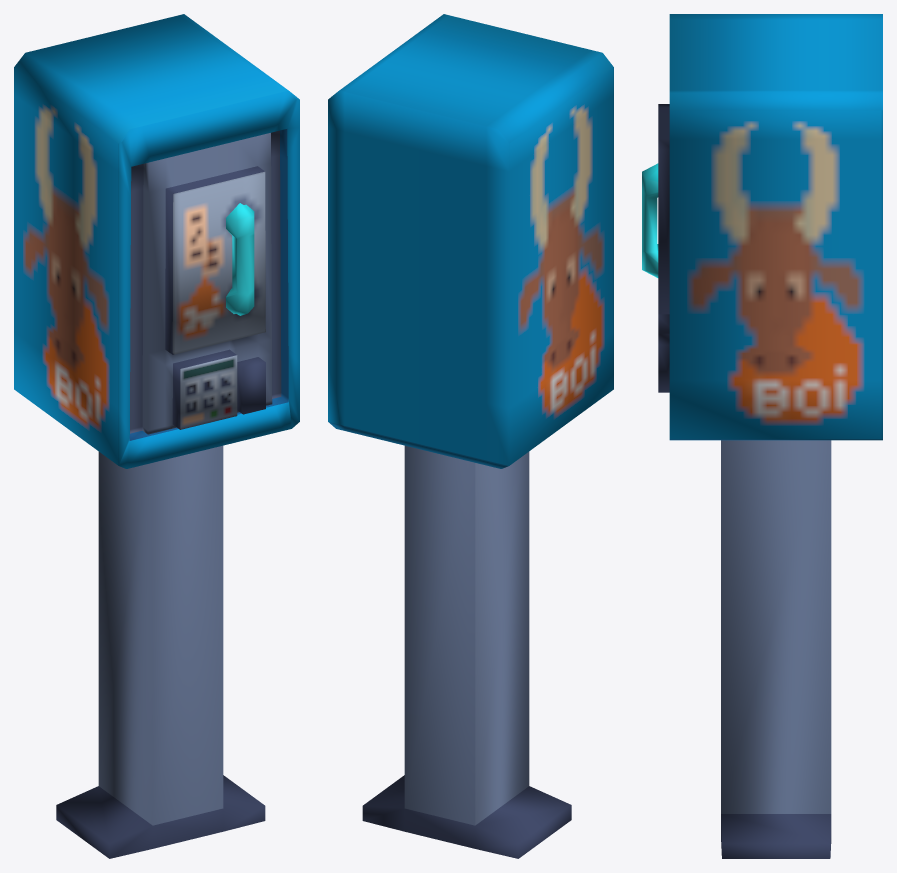
The model's file is Telefone.fbx.
The picture shows the model from 3 angles, left to right: view 1: azimuth 30°, elevation 25°; view 2: azimuth 150°, elevation 25°; view 3: azimuth 270°, elevation 25°; orthographic projection.
Visible parts, largest first — view 1: TelefonePublico; view 2: TelefonePublico; view 3: TelefonePublico.
Part boxes in pixels (<box>): TelefonePublico: <box>14,14,299,858</box>; TelefonePublico: <box>328,14,613,858</box>; TelefonePublico: <box>642,14,882,858</box>.
Size of the model in its own units: 36.29 by 40.96 by 144.
